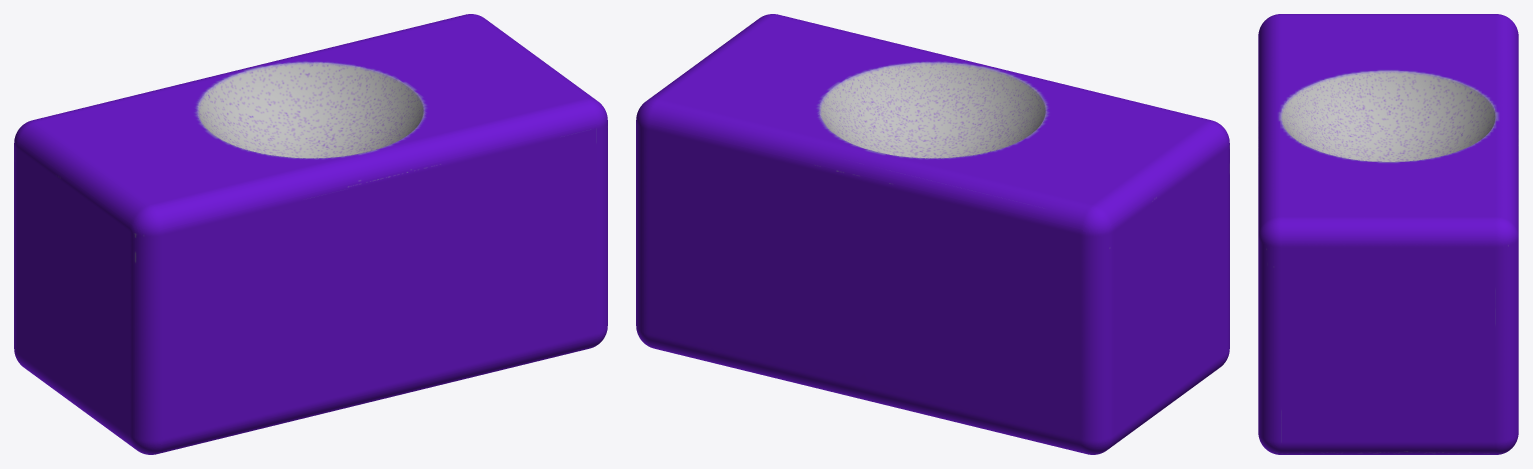
The model's file is womp.glb.
The picture shows the model from 3 angles, left to right: view 1: azimuth 30°, elevation 25°; view 2: azimuth 150°, elevation 25°; view 3: azimuth 270°, elevation 25°; orthographic projection. The views are drawn at different scales.
Visible parts, largest first — view 1: Area (2); view 2: Area (2); view 3: Area (2).
Part boxes in pixels (left/top/right/bottom): Area (2): left=14, top=14, right=607, bottom=454; Area (2): left=636, top=14, right=1229, bottom=454; Area (2): left=1258, top=14, right=1518, bottom=454.
Size of the model in its own units: 200 by 100 by 100.
1 material, 1 textured.
